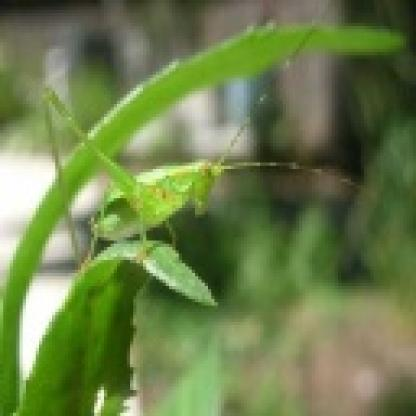grasshopper: (34, 68, 304, 258)
